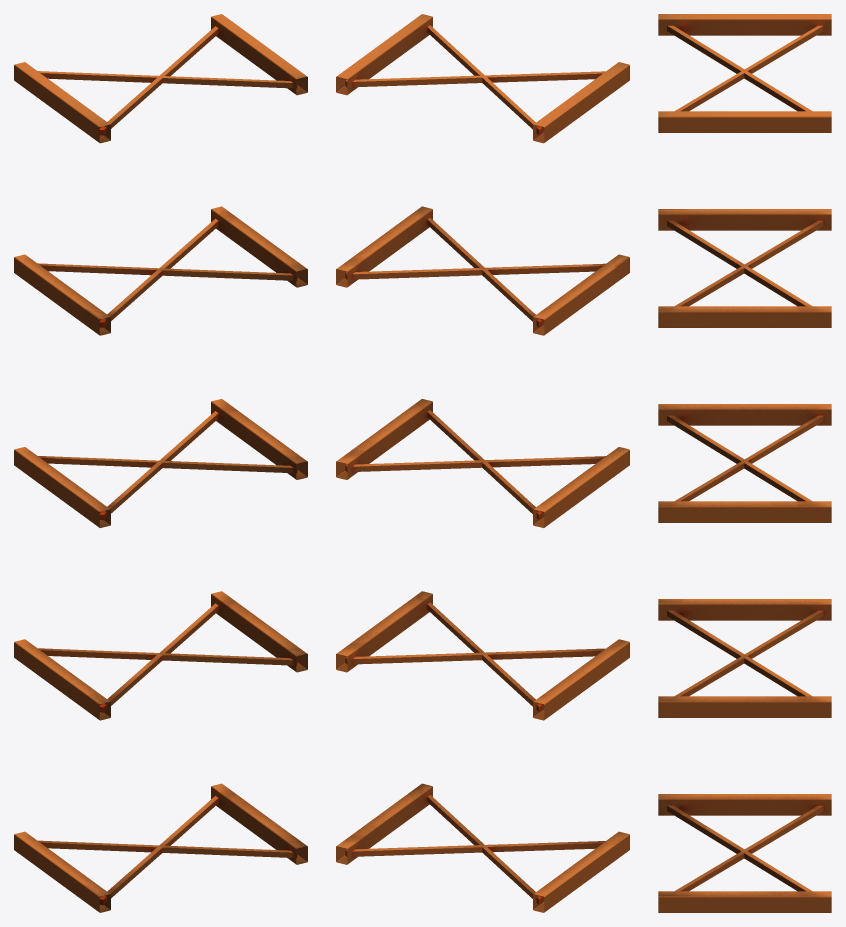
File: shelves.serva.3341.obj
3 renders of one model, left to right at view 1: azimuth 30°, elevation 25°; view 2: azimuth 150°, elevation 25°; view 3: azimuth 270°, elevation 25°, orthographic.
Parts seen in each view (by area): view 1: ____05; view 2: ____05; view 3: ____05.
Part boxes in pixels (x1,y1,x2,y2): ____05: (14, 14, 307, 912); ____05: (336, 14, 629, 912); ____05: (658, 14, 831, 912).
Size of the model in its own units: 141 by 507 by 99.95.
